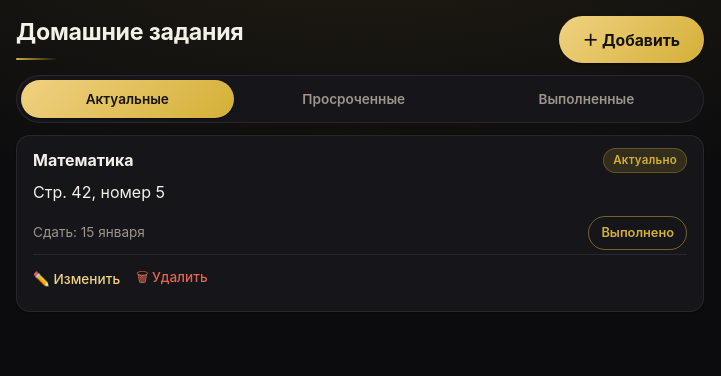
homework editing › shows the server's message when a delete is refused
Click the button "🗑 Удалить" at x=172, y=279, box [136, 259, 208, 299]
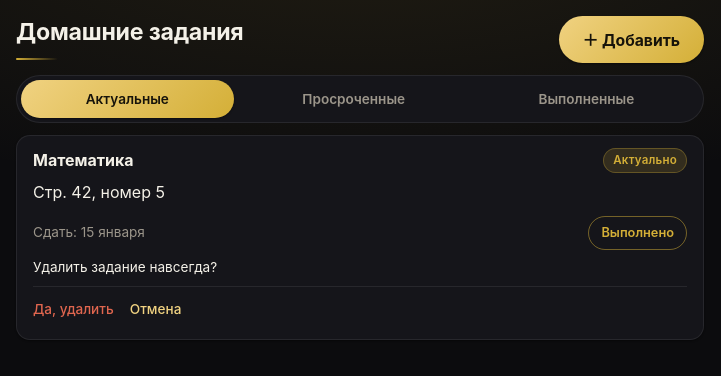
Click the button "Да, удалить" at x=73, y=309, box [33, 291, 114, 327]
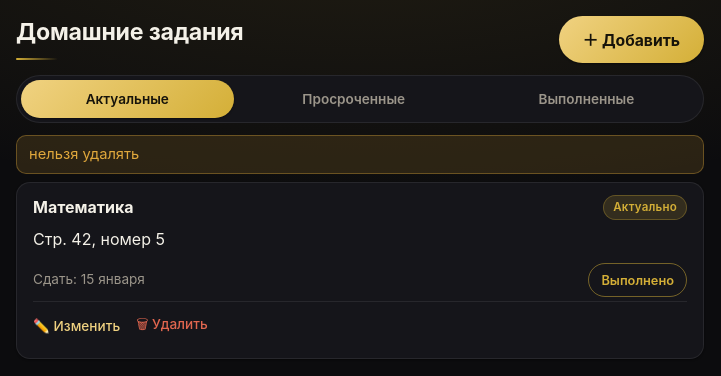
Result: the text "нельзя удалять" is shown at [16, 135, 704, 174]
